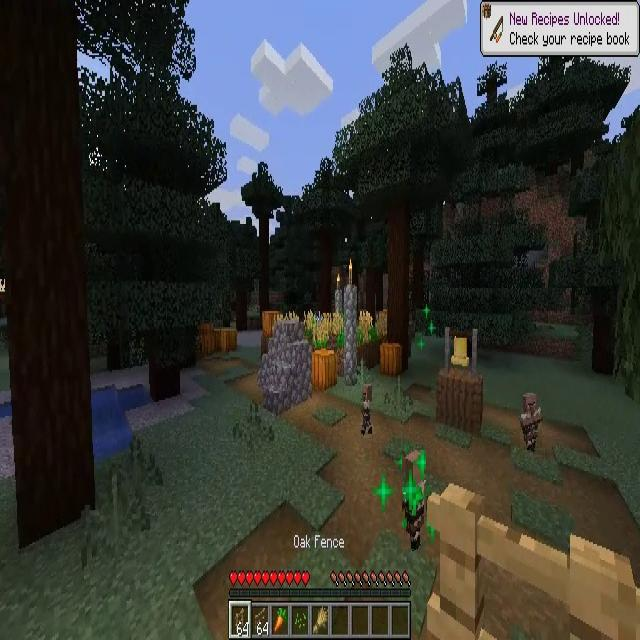people: (402, 450, 426, 550), (520, 394, 542, 450), (361, 385, 373, 436)
